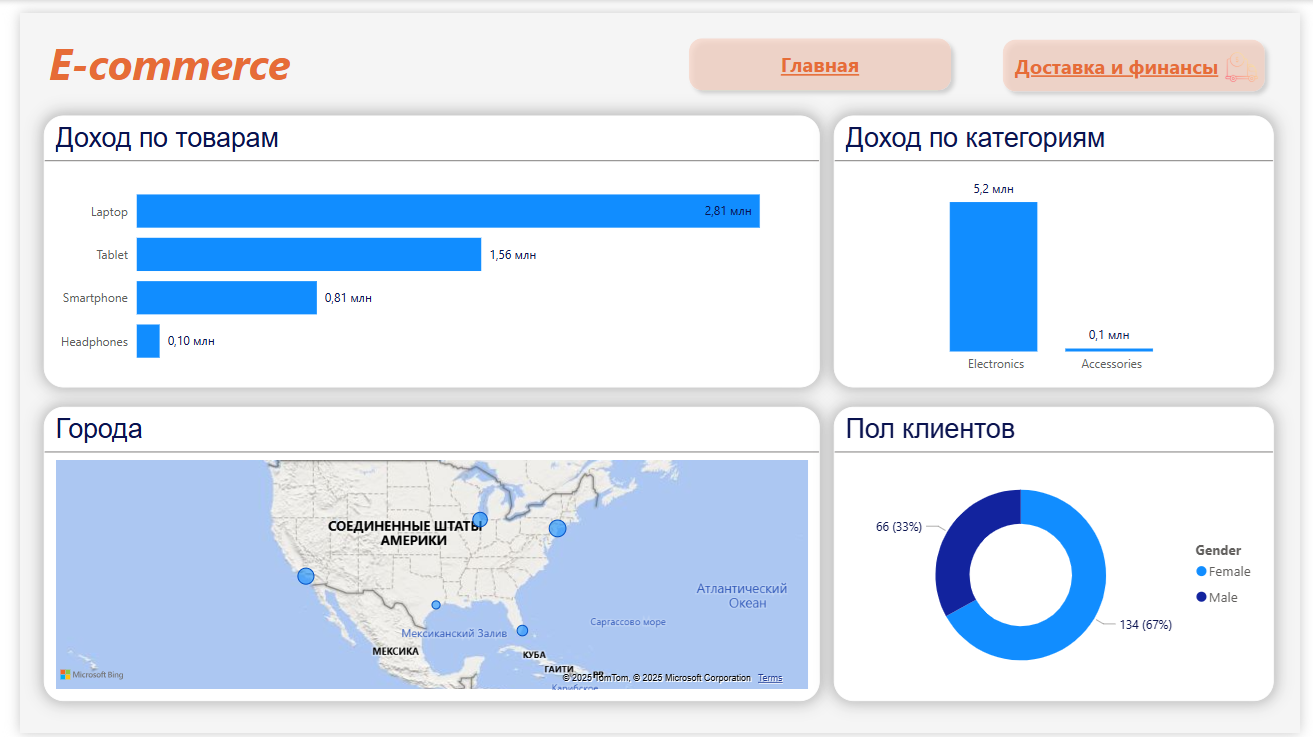

Layout of this report page (visuals, bound fields, positions):
{"tool":"powerbi","page":{"name":"Товары и клиенты","canvas":[1280,720],"ordinal":1},"visuals":[{"type":"barChart","title":"Доход по товарам","fields":{"Category":["products.ProductName"],"Y":["orders.Total Revenue"]},"box":[24,102,776,272],"z":0},{"type":"shape","box":[974,18,280,70],"z":1000},{"type":"textbox","box":[24.3,15.7,267.1,70],"z":2000},{"type":"shape","box":[660,16,280,70],"z":3000},{"type":"columnChart","title":"Доход по категориям","fields":{"Y":["orders.Total Revenue"],"Category":["products.Category"]},"box":[814,102,440,272],"z":4000},{"type":"map","title":"Города","fields":{"Size":["orders.Total Revenue"],"Category":["customers.City"]},"box":[24,394,776,294],"z":5000},{"type":"donutChart","title":"Пол клиентов","fields":{"Category":["customers.Gender"],"Y":["orders.Total Orders"]},"box":[814,394,440,294],"z":6000},{"type":"image","box":[1200,32,43,43],"z":6001}]}

Visuals, with their boxes in screenshot pixels (x1, y1, x2, y2), scaled from the page's 1280x720 canvas onto the 1313x737 screenshot:
"Доход по товарам" barChart: detection(25, 104, 821, 383)
shape: detection(999, 18, 1286, 90)
textbox: detection(25, 16, 299, 88)
shape: detection(677, 16, 964, 88)
"Доход по категориям" columnChart: detection(835, 104, 1286, 383)
"Города" map: detection(25, 403, 821, 704)
"Пол клиентов" donutChart: detection(835, 403, 1286, 704)
image: detection(1231, 33, 1275, 77)
